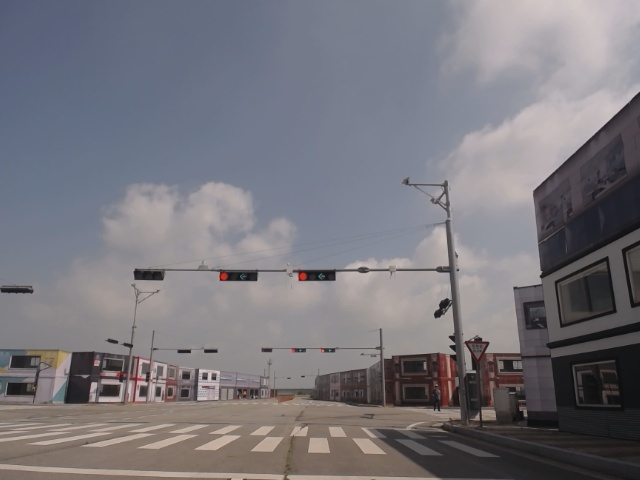left_green_4: (298, 270, 336, 281), (220, 270, 257, 281)
